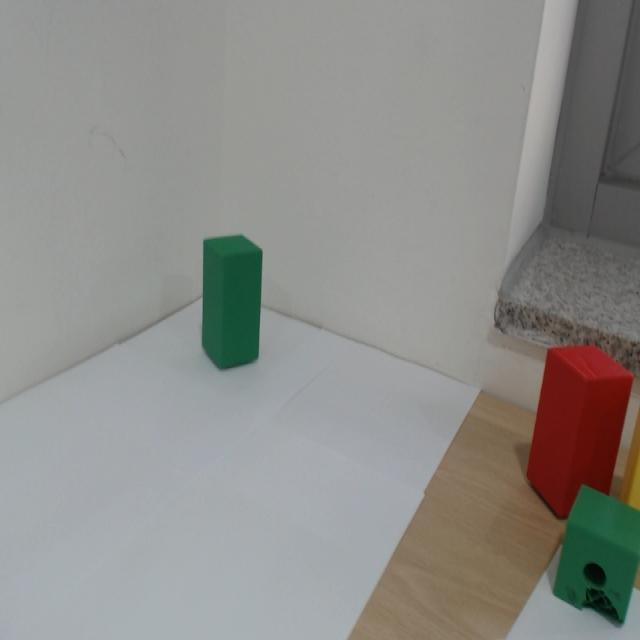cube: (187, 207, 277, 410)
